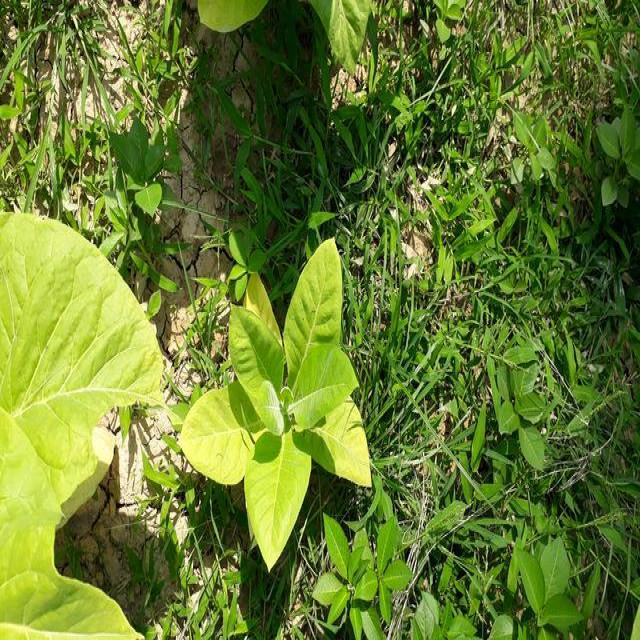crop: (189, 226, 382, 570)
